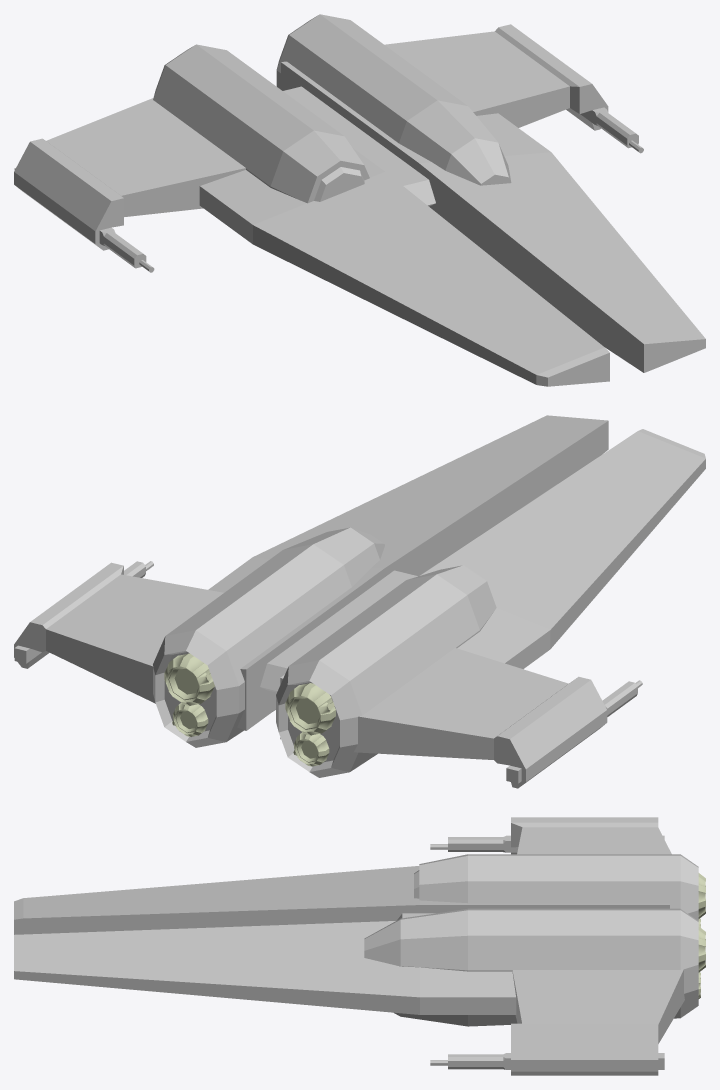
Rendered from fighter_dominator.obj.
3 views of the same model, one above another, from view 1: azimuth 30°, elevation 25°; view 2: azimuth 150°, elevation 25°; view 3: azimuth 270°, elevation 25° (orthographic). The views are drawn at different scales.
Visible parts, largest first — view 1: MainHull_Cube.001, Wings_Cube.002, MainHull.001_Cube.004, InnerHull_Cylinder.001, InnerHull.001_Cylinder.000, Connection_Cube; view 2: Wings_Cube.002, MainHull_Cube.001, MainHull.001_Cube.004, InnerHull_Cylinder.001, InnerHull.001_Cylinder.000, Connection_Cube, largeEngine.001_largeEngine, largeEngine, largeEngine.002_largeEngine.001, largeEngine.003_largeEngine.001; view 3: MainHull.001_Cube.004, Wings_Cube.002, InnerHull.001_Cylinder.000, MainHull_Cube.001, InnerHull_Cylinder.001.
Part boxes in pixels (x1,y1,x2,y2): MainHull_Cube.001: [199, 148, 609, 386]; Wings_Cube.002: [14, 24, 643, 272]; MainHull.001_Cube.004: [281, 61, 705, 372]; InnerHull_Cylinder.001: [153, 44, 369, 203]; InnerHull.001_Cylinder.000: [276, 14, 511, 185]; Connection_Cube: [283, 86, 435, 206]; Wings_Cube.002: [14, 561, 642, 788]; MainHull_Cube.001: [280, 429, 705, 739]; MainHull.001_Cube.004: [208, 415, 608, 730]; InnerHull_Cylinder.001: [276, 565, 496, 777]; InnerHull.001_Cylinder.000: [153, 527, 384, 747]; Connection_Cube: [260, 570, 417, 692]; largeEngine.001_largeEngine: [285, 683, 335, 735]; largeEngine: [164, 653, 214, 705]; largeEngine.002_largeEngine.001: [172, 703, 208, 736]; largeEngine.003_largeEngine.001: [293, 732, 329, 766]; MainHull.001_Cube.004: [14, 921, 516, 1014]; Wings_Cube.002: [430, 817, 684, 1075]; InnerHull.001_Cylinder.000: [364, 908, 698, 1026]; MainHull_Cube.001: [14, 866, 669, 934]; InnerHull_Cylinder.001: [414, 854, 698, 920].
Size of the model in its own units: 0.6269 by 0.1484 by 0.8109.
